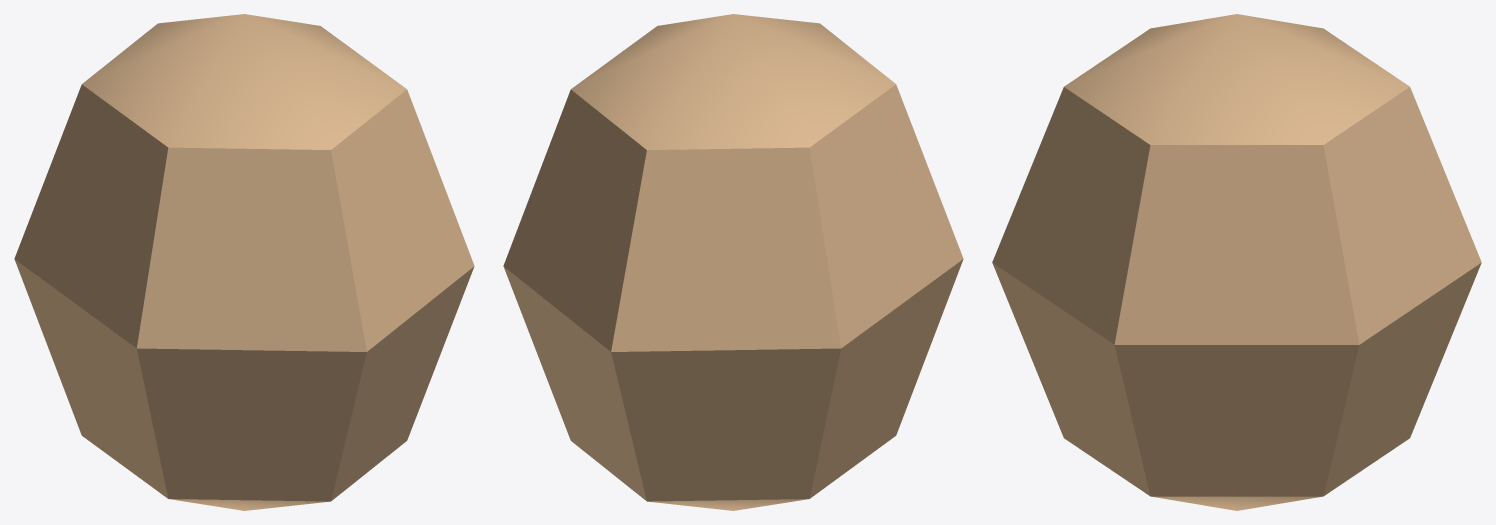
File: crowd_head.glb
3 renders of one model, left to right at view 1: azimuth 30°, elevation 25°; view 2: azimuth 150°, elevation 25°; view 3: azimuth 270°, elevation 25°, orthographic.
Visible parts, largest first — view 1: Figure; view 2: Figure; view 3: Figure.
Boxes of the visible parts, x1,y1,x2,y2 form: Figure: (14, 14, 474, 510); Figure: (503, 14, 963, 510); Figure: (992, 14, 1481, 510).
Bounding box in the file's own units: 0.1673 × 0.2352 × 0.21.
